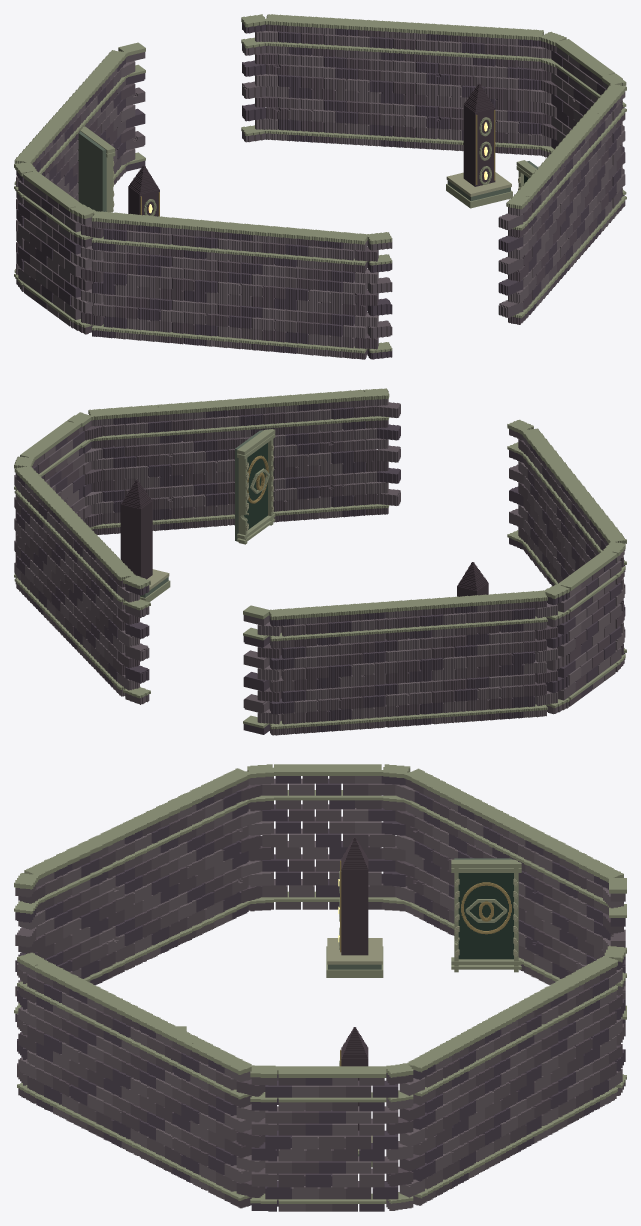
3 renders of one model, top to bottom at view 1: azimuth 30°, elevation 25°; view 2: azimuth 150°, elevation 25°; view 3: azimuth 270°, elevation 25°, orthographic. The views are drawn at different scales.
Parts seen in each view (by area): view 1: CarvedMasonry_-2_1_00, CarvedMasonry_1_-2_00, CarvedMasonry_-3_0_00, CarvedMasonry_0_-2_00, CarvedMasonry_2_-1_00, CarvedMasonry_-1_1_00, CarvedMasonry_0_1_00, CarvedMasonry_-3_-1_00, CarvedMasonry_1_1_00, CarvedMasonry_2_0_00, CarvedMasonry_-1_-2_00, IncisedBloodObelisks_01 (+6 smaller); view 2: CarvedMasonry_-2_-2_00, CarvedMasonry_-3_-1_00, CarvedMasonry_1_1_00, CarvedMasonry_0_1_00, CarvedMasonry_2_0_00, CarvedMasonry_-1_-2_00, CarvedMasonry_1_-2_00, CarvedMasonry_0_-2_00, CarvedMasonry_1_0_00, CarvedMasonry_-2_1_00, CarvedMasonry_-3_0_00, CarvedMasonry_2_-1_00 (+7 smaller); view 3: CarvedMasonry_2_0_00, CarvedMasonry_2_-1_00, CarvedMasonry_-3_0_00, CarvedMasonry_-3_-1_00, CarvedMasonry_-2_1_00, CarvedMasonry_1_-2_00, CarvedMasonry_1_1_00, CarvedMasonry_-2_-2_00, CarvedMasonry_0_1_00, CarvedMasonry_0_-2_00, Heraldry_09_01, CarvedMasonry_-1_1_00 (+7 smaller).
Boxes of the visible parts, left/top/right/bottom form: CarvedMasonry_-2_1_00: left=183, top=218, right=331, bottom=355; CarvedMasonry_1_-2_00: left=323, top=18, right=474, bottom=151; CarvedMasonry_-3_0_00: left=46, top=187, right=162, bottom=342; CarvedMasonry_0_-2_00: left=241, top=14, right=336, bottom=143; CarvedMasonry_2_-1_00: left=484, top=27, right=591, bottom=157; CarvedMasonry_-1_1_00: left=319, top=230, right=392, bottom=359; CarvedMasonry_0_1_00: left=498, top=176, right=548, bottom=324; CarvedMasonry_-3_-1_00: left=14, top=132, right=58, bottom=309; CarvedMasonry_1_1_00: left=531, top=130, right=588, bottom=296; CarvedMasonry_2_0_00: left=578, top=56, right=626, bottom=232; CarvedMasonry_-1_-2_00: left=95, top=42, right=145, bottom=184; IncisedBloodObelisks_01: left=446, top=83, right=512, bottom=208; CarvedMasonry_-2_-2_00: left=315, top=595, right=478, bottom=732; CarvedMasonry_-3_-1_00: left=475, top=567, right=598, bottom=721; CarvedMasonry_1_1_00: left=193, top=393, right=321, bottom=527; CarvedMasonry_0_1_00: left=308, top=388, right=400, bottom=518; CarvedMasonry_2_0_00: left=43, top=405, right=160, bottom=534; CarvedMasonry_-1_-2_00: left=243, top=605, right=328, bottom=735; CarvedMasonry_1_-2_00: left=41, top=493, right=108, bottom=669; CarvedMasonry_0_-2_00: left=94, top=548, right=150, bottom=704; CarvedMasonry_1_0_00: left=147, top=401, right=205, bottom=530; CarvedMasonry_-2_1_00: left=534, top=447, right=596, bottom=586; CarvedMasonry_-3_0_00: left=581, top=512, right=626, bottom=689; CarvedMasonry_2_-1_00: left=14, top=438, right=61, bottom=605; CarvedMasonry_2_0_00: left=189, top=1040, right=332, bottom=1211; CarvedMasonry_2_-1_00: left=319, top=1045, right=459, bottom=1211; CarvedMasonry_-3_0_00: left=184, top=764, right=327, bottom=936; CarvedMasonry_-3_-1_00: left=316, top=764, right=469, bottom=935; CarvedMasonry_-2_1_00: left=60, top=803, right=179, bottom=985; CarvedMasonry_1_-2_00: left=456, top=983, right=575, bottom=1178; CarvedMasonry_1_1_00: left=67, top=978, right=167, bottom=1164; CarvedMasonry_-2_-2_00: left=456, top=795, right=589, bottom=985; CarvedMasonry_0_1_00: left=17, top=952, right=81, bottom=1121; CarvedMasonry_0_-2_00: left=555, top=945, right=626, bottom=1124; Heraldry_09_01: left=451, top=858, right=521, bottom=972; CarvedMasonry_-1_1_00: left=14, top=853, right=73, bottom=1021.
Size of the model in its own units: 29.4 by 6.18 by 24.6.
